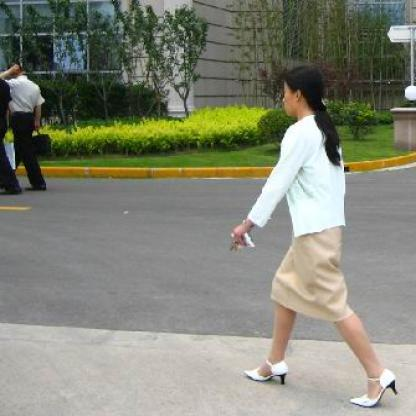person: (213, 60, 403, 408)
